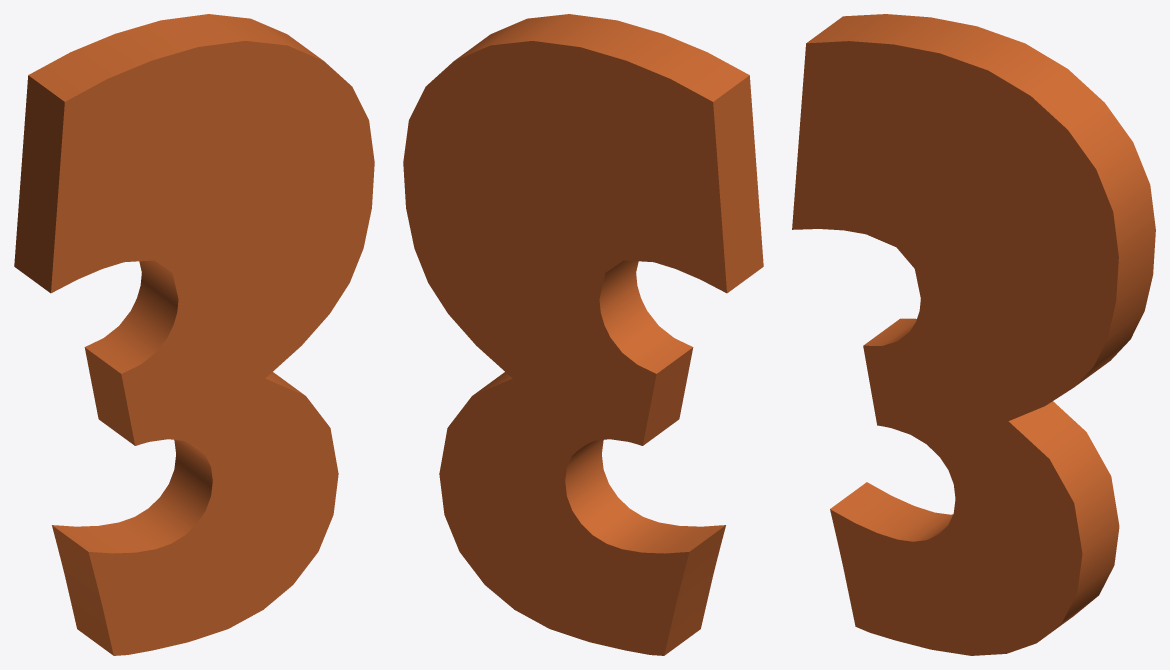
File: Number3.fbx
3 renders of one model, left to right at view 1: azimuth 30°, elevation 25°; view 2: azimuth 150°, elevation 25°; view 3: azimuth 330°, elevation 25°, orthographic.
Visible parts, largest first — view 1: node_id73; view 2: node_id73; view 3: node_id73.
Part boxes in pixels (box(x1,y1,x2,y2)): node_id73: box(14, 14, 374, 655); node_id73: box(403, 14, 763, 655); node_id73: box(792, 14, 1155, 655).
Bounding box in the file's own units: 0.2023 × 0.354 × 0.0397.
